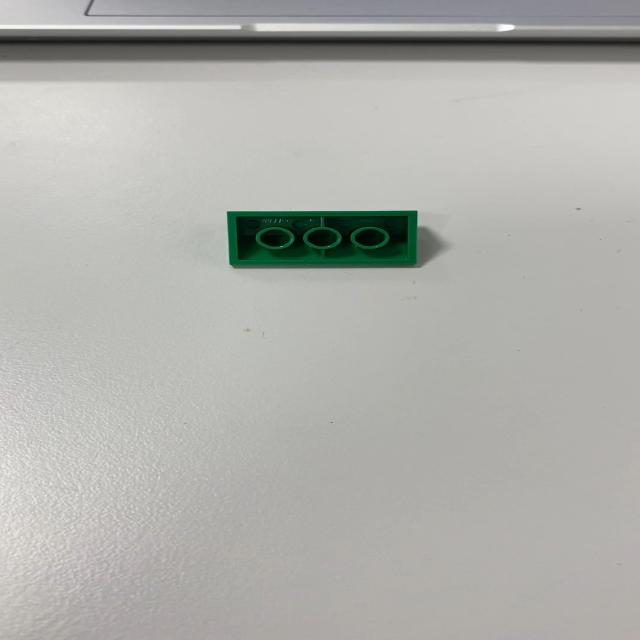P4x2x1: (226, 209, 418, 267)
